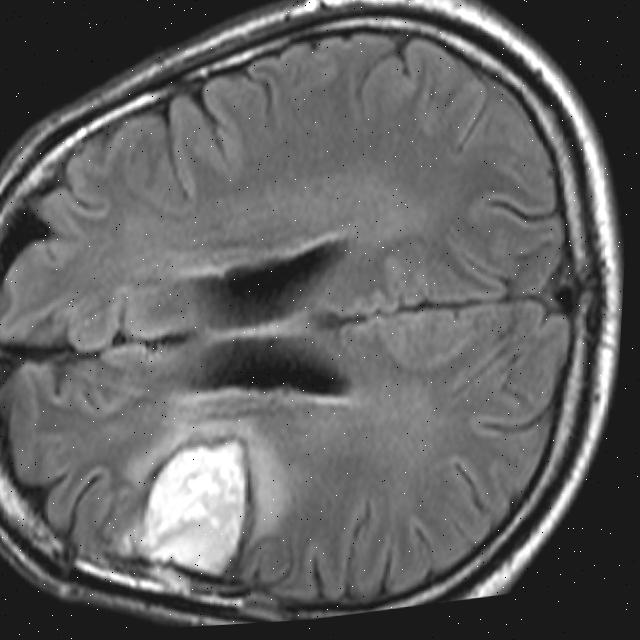Meningioma: (127, 430, 263, 590)
